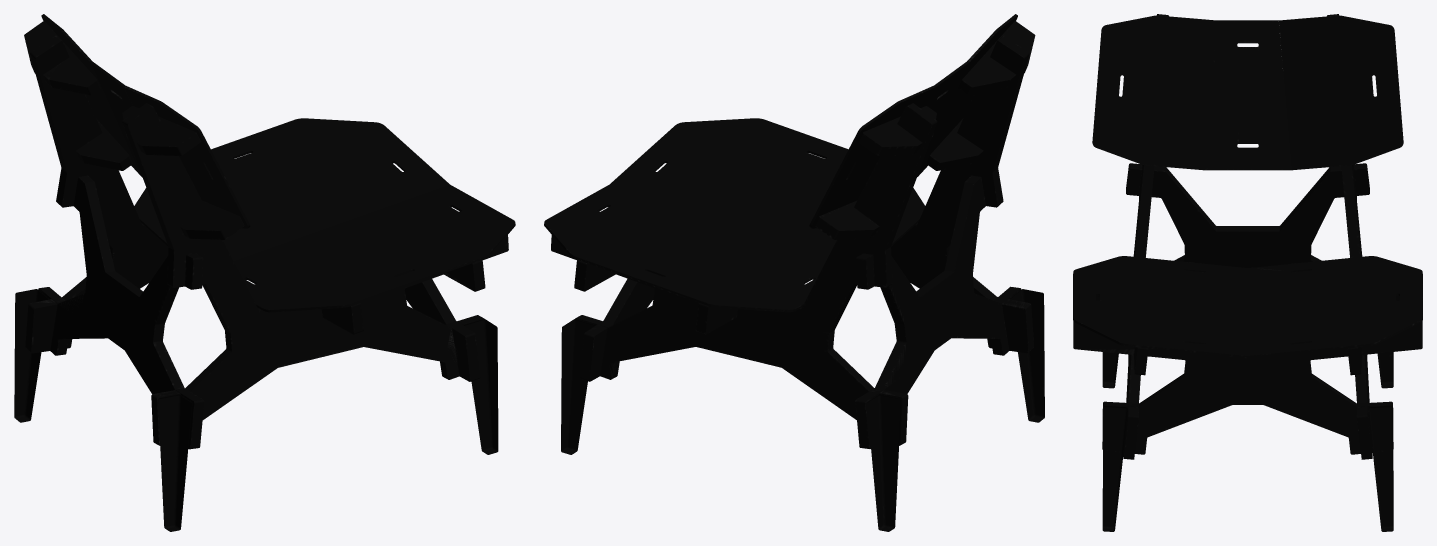
3 views of the same model, side by side, from view 1: azimuth 30°, elevation 25°; view 2: azimuth 150°, elevation 25°; view 3: azimuth 270°, elevation 25° (orthographic). The views are drawn at different scales.
Visible parts, largest first — view 1: node_id3; view 2: node_id3; view 3: node_id3.
Boxes of the visible parts, x1,y1,x2,y2 form: node_id3: (14, 14, 515, 531); node_id3: (544, 14, 1044, 531); node_id3: (1073, 14, 1422, 531).
Size of the model in its own units: 0.4903 by 0.512 by 0.43.
Materials: 1 (1 with a texture image).
